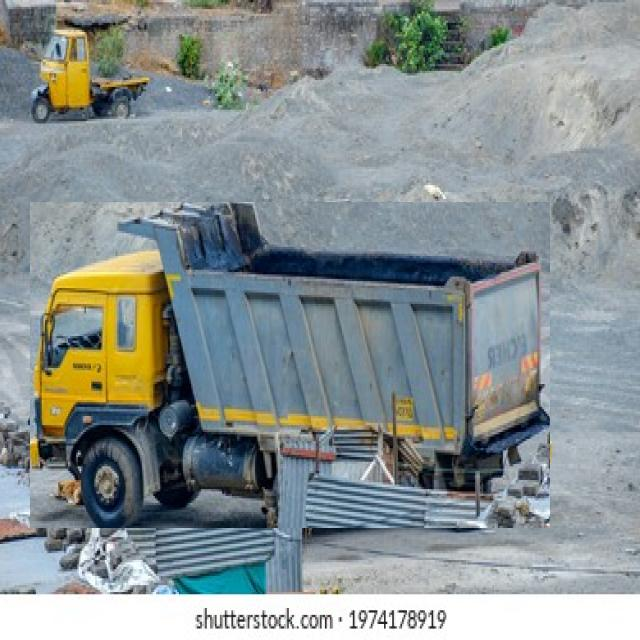autorickshaw: (31, 30, 149, 121)
truck: (30, 202, 550, 528)
